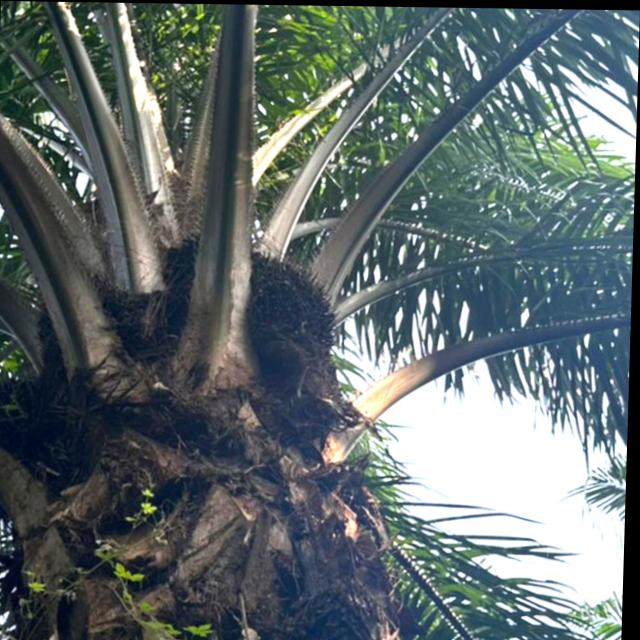unripe: (197, 242, 342, 387)
